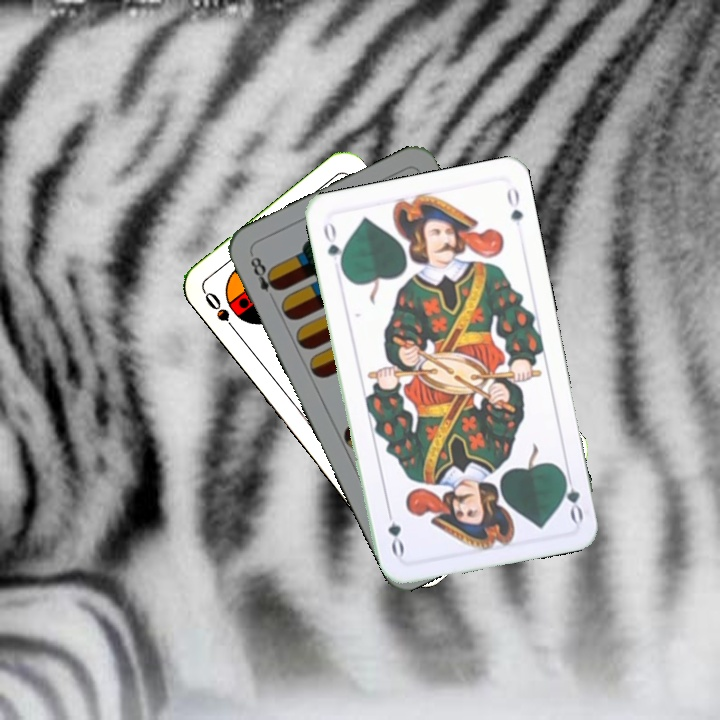E8: (246, 250, 283, 306)
GO: (557, 465, 586, 525), (319, 218, 347, 275)
SO: (200, 288, 242, 338)
